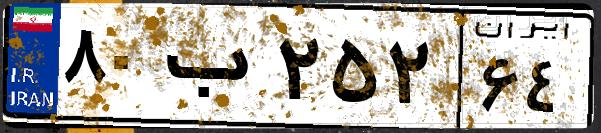0: (110, 28, 158, 98)
2: (270, 28, 330, 110), (385, 28, 445, 110)
4: (525, 38, 570, 115)
5: (330, 28, 385, 110)
6: (475, 38, 525, 113)
8: (57, 26, 110, 100)
ب: (158, 20, 270, 120)
